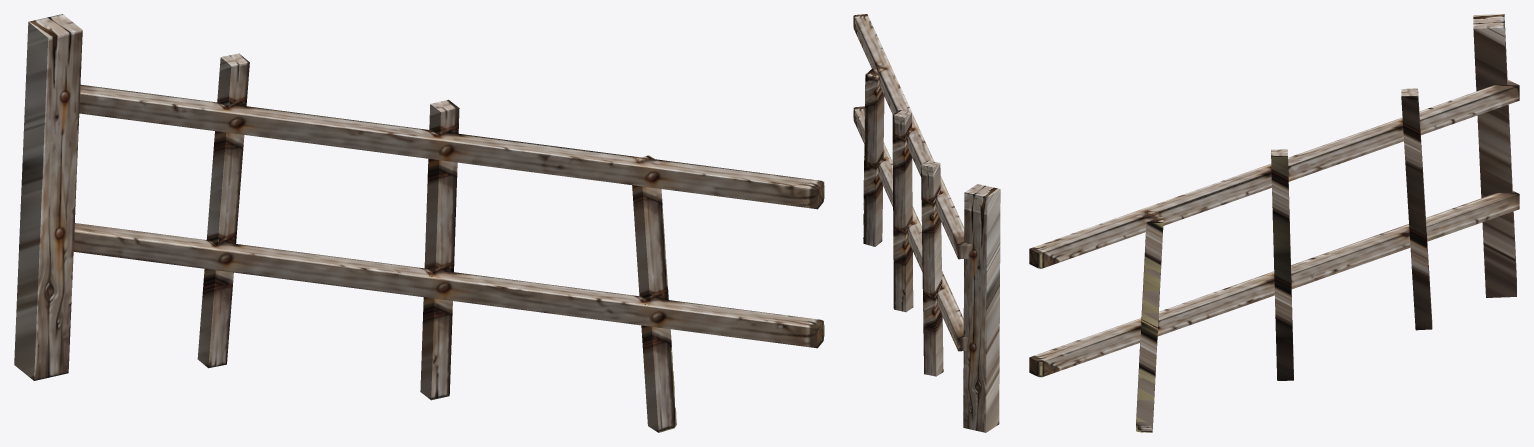
The model's file is fence_08.glb.
The picture shows the model from 3 angles, left to right: view 1: azimuth 30°, elevation 25°; view 2: azimuth 150°, elevation 25°; view 3: azimuth 270°, elevation 25°; orthographic projection. The views are drawn at different scales.
Visible parts, largest first — view 1: fence_08_game; view 2: fence_08_game; view 3: fence_08_game.
Boxes of the visible parts, x1,y1,x2,y2 form: fence_08_game: (14, 14, 824, 432); fence_08_game: (853, 14, 1000, 432); fence_08_game: (1029, 14, 1519, 432).
Size of the model in its own units: 1.9 by 1.26 by 2.05.
1 material, 1 textured.
